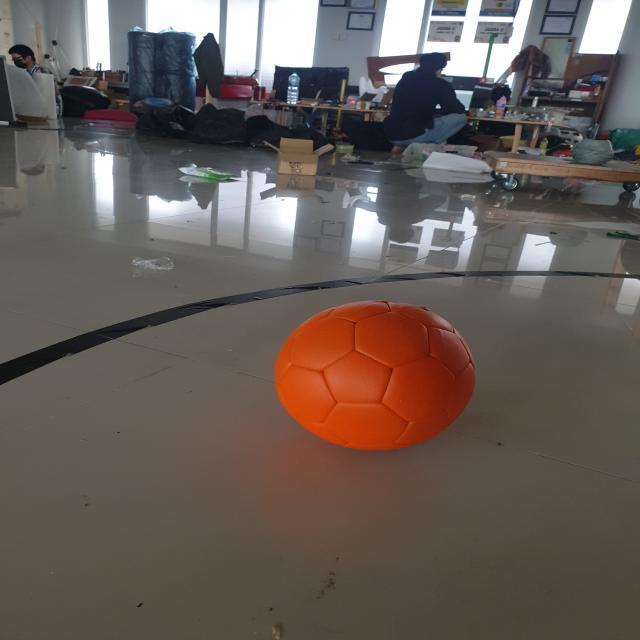bola: (256, 287, 502, 460)
